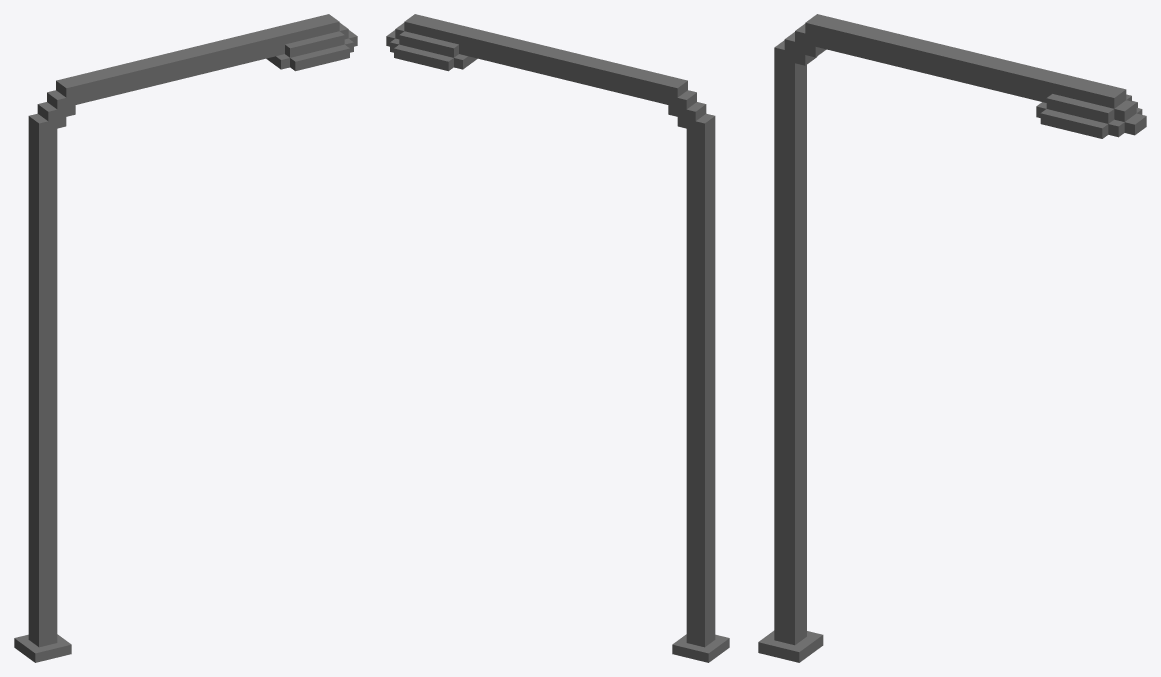
The model's file is light1.obj.
3 renders of one model, left to right at view 1: azimuth 30°, elevation 25°; view 2: azimuth 150°, elevation 25°; view 3: azimuth 330°, elevation 25°, orthographic. The views are drawn at different scales.
Size of the model in its own units: 3.6 by 5.9 by 0.6.
1 material, 1 textured.
